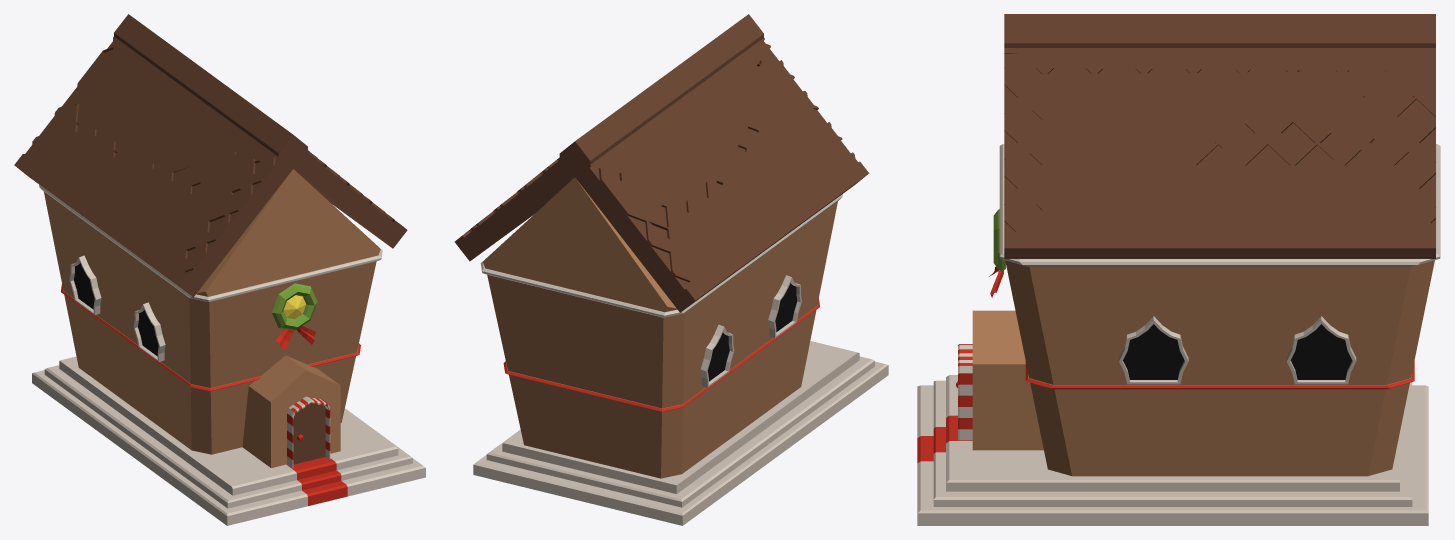
The model's file is House2.fbx.
The picture shows the model from 3 angles, left to right: view 1: azimuth 30°, elevation 25°; view 2: azimuth 150°, elevation 25°; view 3: azimuth 270°, elevation 25°; orthographic projection. The views are drawn at different scales.
Parts seen in each view (by area): view 1: House; view 2: House; view 3: House.
Part boxes in pixels (x1,y1,x2,y2): House: (14,14,425,525); House: (454,14,888,525); House: (917,14,1440,525).
Bounding box in the file's own units: 438 × 627 × 663.
